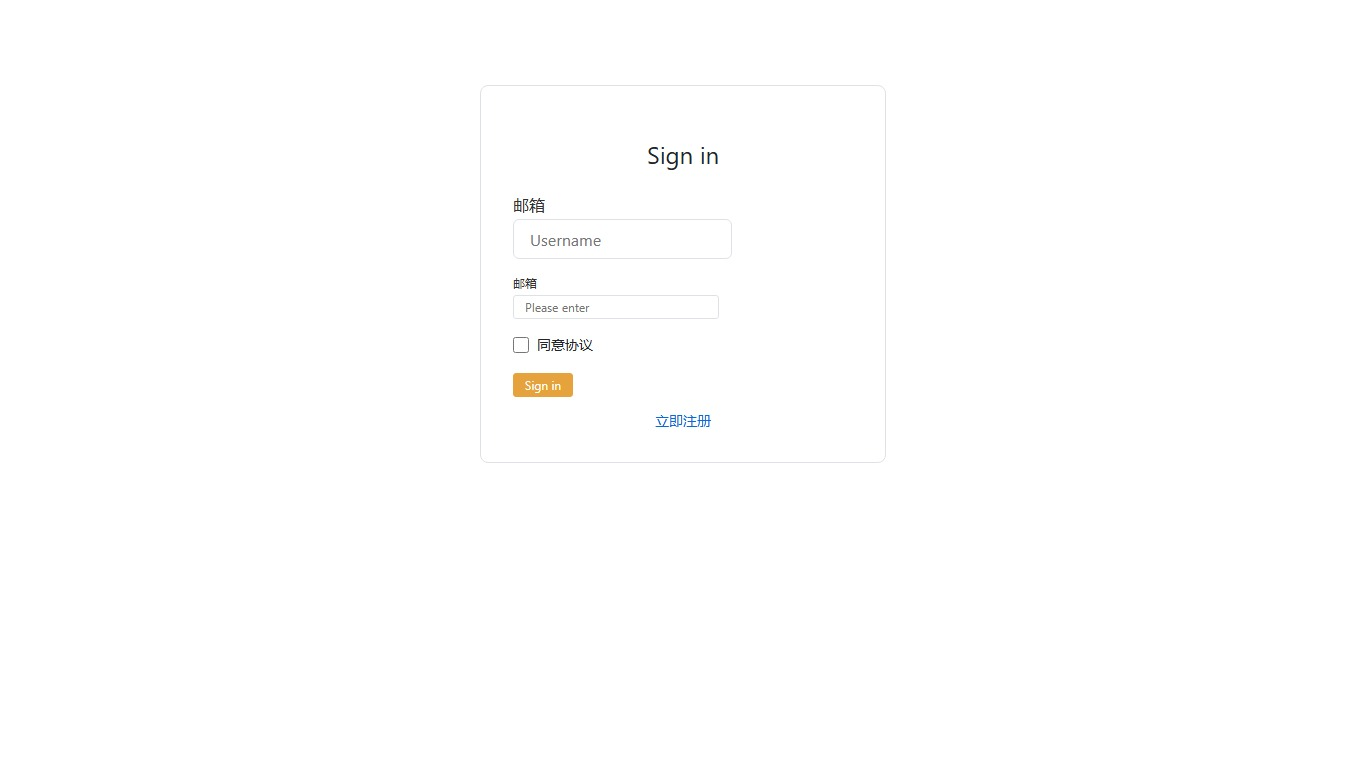button: (513, 373, 573, 397)
checkbox: (513, 337, 529, 353)
icon: (537, 335, 593, 354)
input: (513, 219, 732, 259), (513, 295, 719, 319)
link: (655, 411, 711, 430)
radio: (513, 335, 593, 354)
